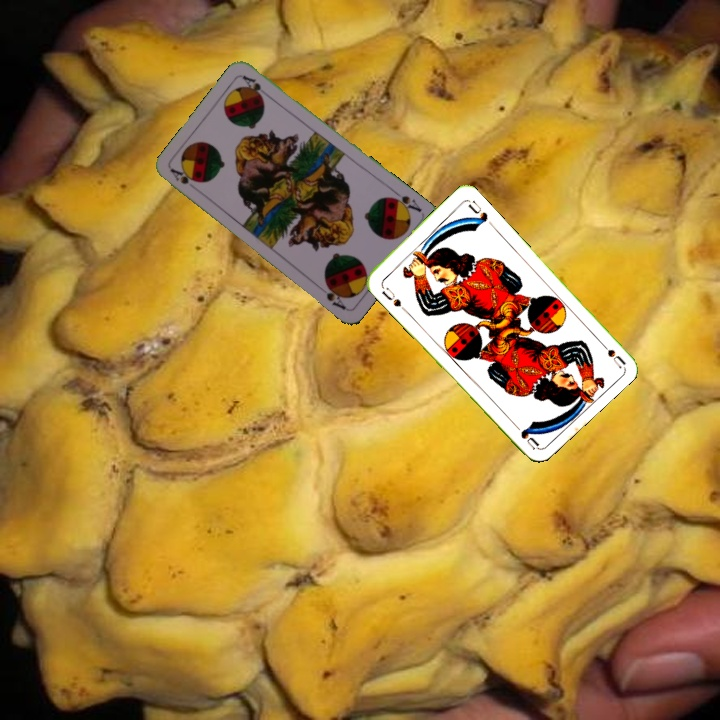SA: (386, 186, 424, 215), (167, 164, 199, 187)
SU: (594, 335, 627, 370), (377, 280, 404, 310)
